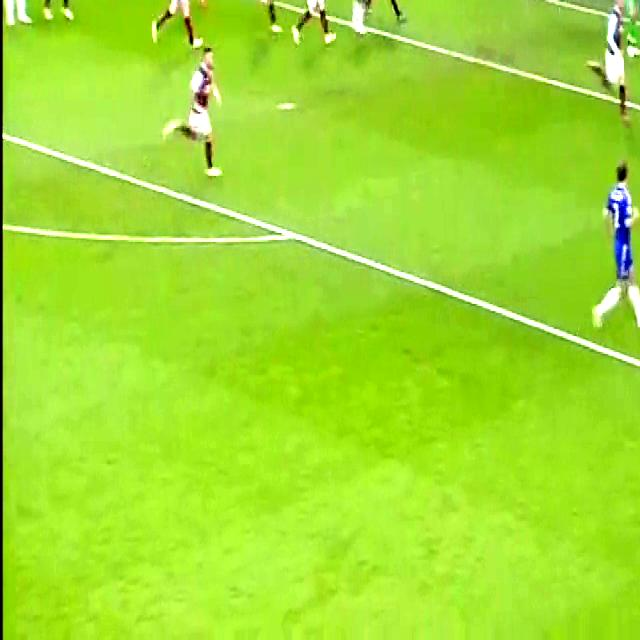goalkeeper: (612, 0, 640, 60)
soccer-player: (584, 148, 640, 342), (158, 40, 224, 186), (584, 0, 633, 126), (147, 0, 206, 52), (291, 0, 340, 53), (345, 0, 387, 37), (369, 0, 412, 34), (250, 0, 285, 36), (36, 0, 80, 28), (2, 0, 36, 34)
